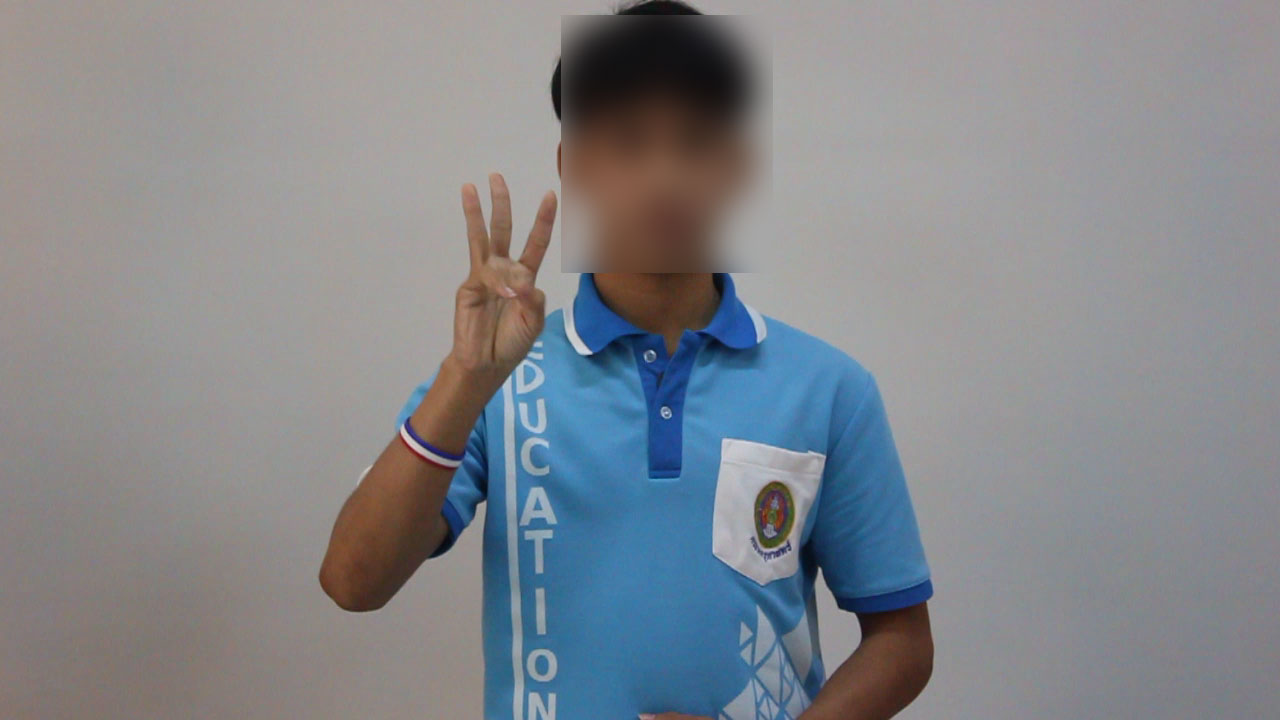wor: (445, 166, 562, 387)
